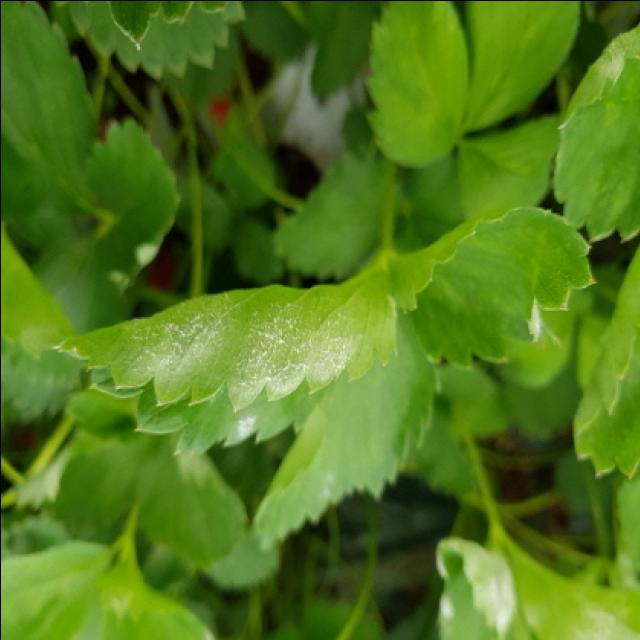Powdery Mildew Leaf: (50, 252, 398, 458), (253, 305, 440, 547), (382, 205, 596, 370), (549, 20, 640, 242), (432, 533, 521, 640)
